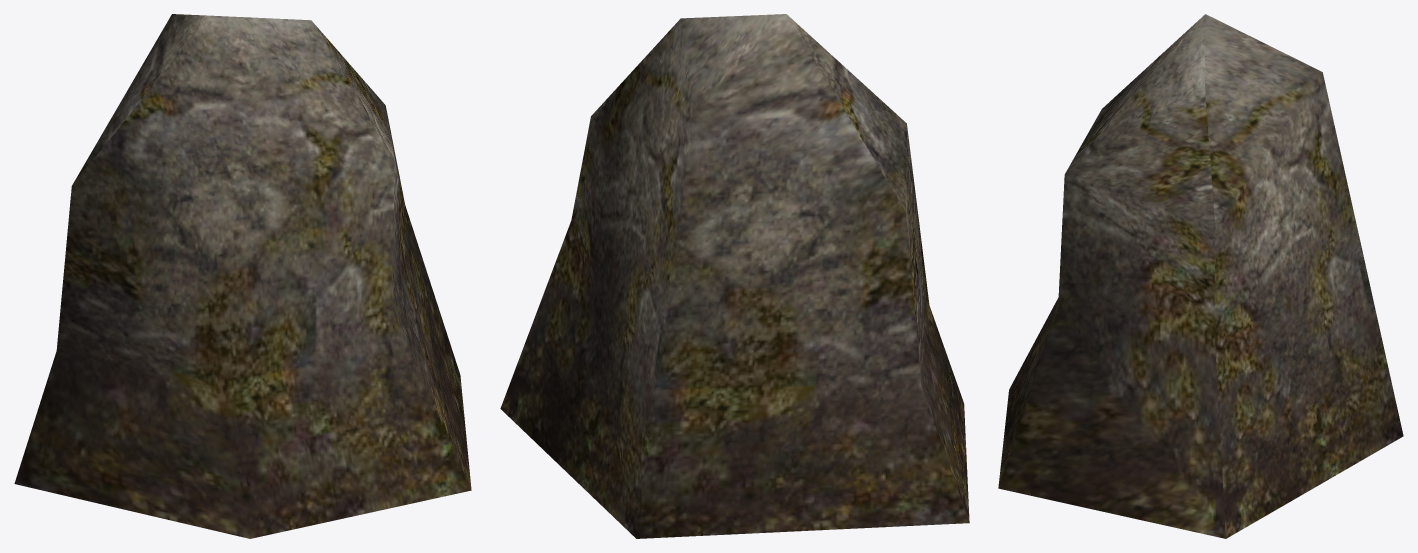
File: hazz_shitou_01.FBX
The picture shows the model from 3 angles, left to right: view 1: azimuth 30°, elevation 25°; view 2: azimuth 150°, elevation 25°; view 3: azimuth 270°, elevation 25°; orthographic projection. The views are drawn at different scales.
Parts seen in each view (by area): view 1: hazz_shitou_01; view 2: hazz_shitou_01; view 3: hazz_shitou_01.
Boxes of the visible parts, box(x1,y1,x2,y2) form: hazz_shitou_01: box(14, 14, 471, 538); hazz_shitou_01: box(500, 14, 969, 538); hazz_shitou_01: box(998, 14, 1403, 538).
Size of the model in its own units: 260 by 240 by 217.
